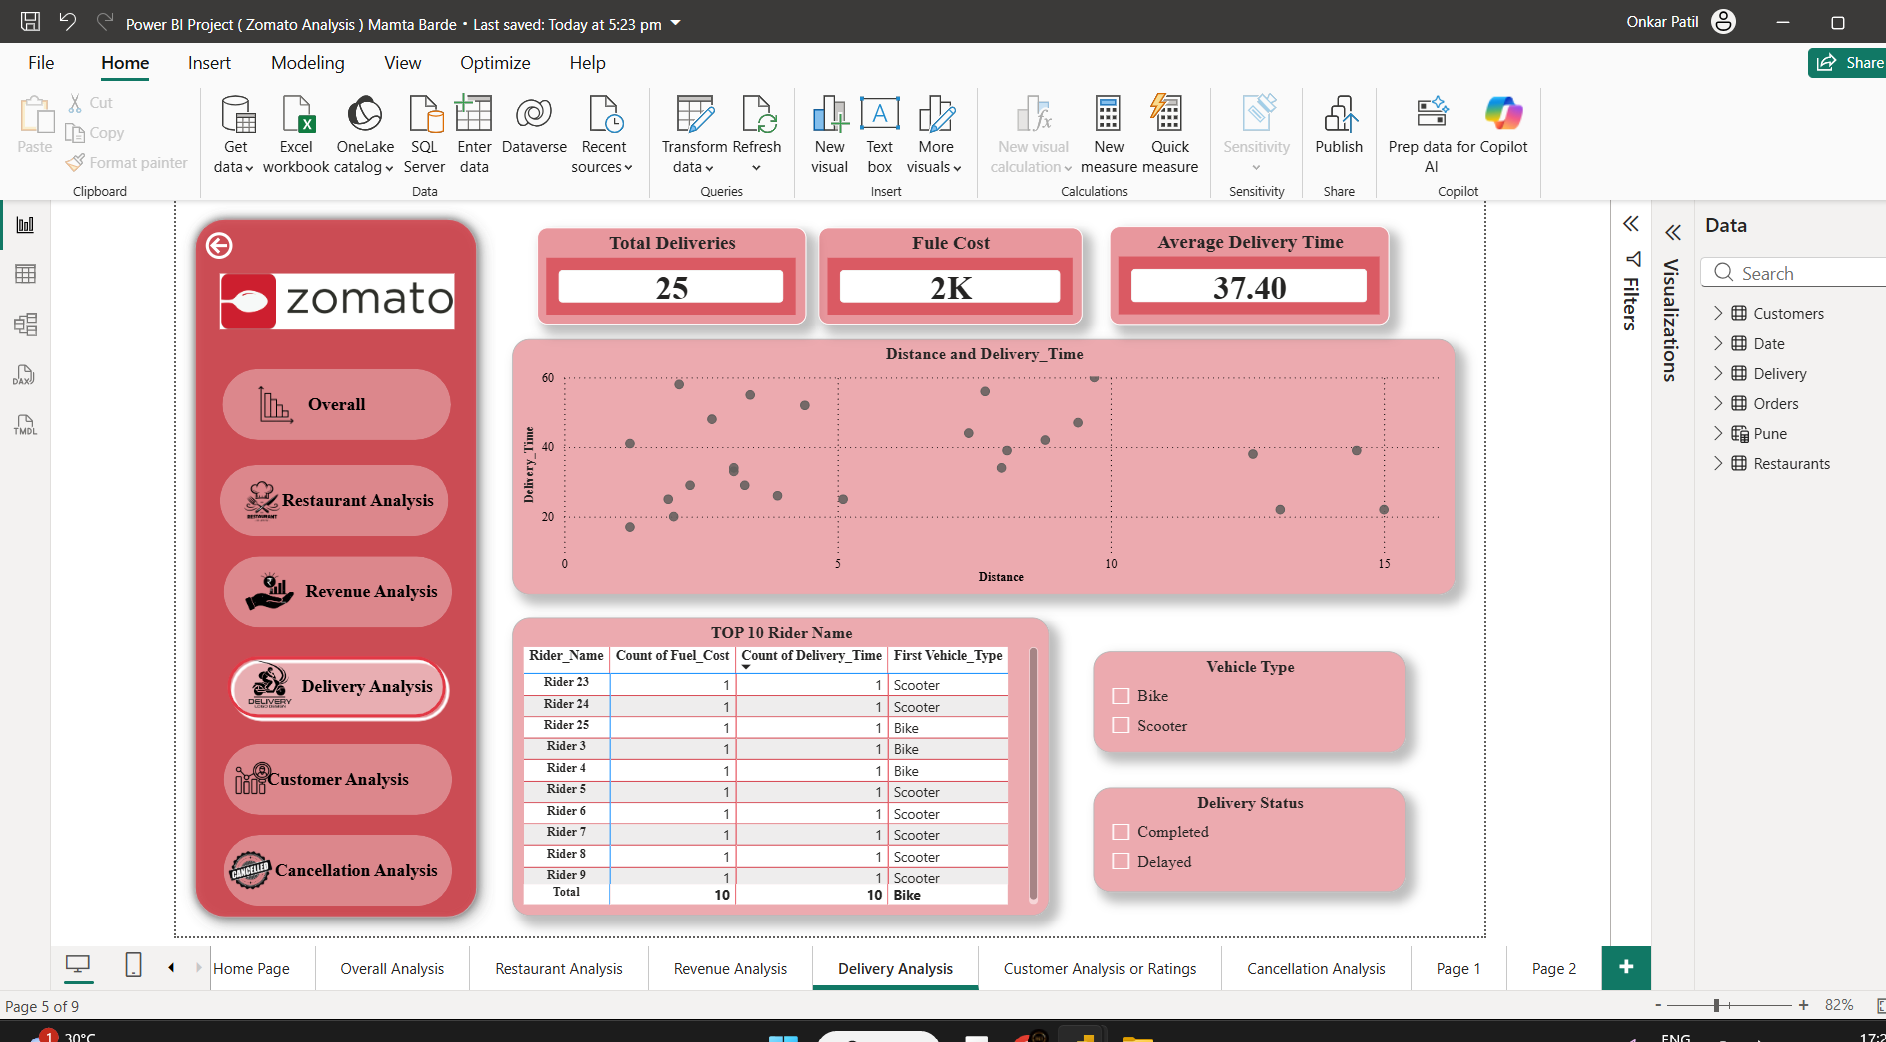

What the dashboard file says about the page in this screenshot:
{"tool":"powerbi","page":{"name":"Delivery Analysis","canvas":[1280,720],"ordinal":4},"visuals":[{"type":"shape","box":[0,0,312.9,720.4],"z":0},{"type":"image","box":[42.8,62.4,229.9,73.4],"z":1000},{"type":"actionButton","box":[45.2,165.1,223.8,69.7],"z":2000},{"type":"image","box":[56.3,173.6,83.2,53.8],"z":3000},{"type":"actionButton","box":[42.8,259.2,223.8,69.7],"z":4000},{"type":"image","box":[56.3,275.1,56.3,39.1],"z":5000},{"type":"actionButton","box":[46.5,348.5,223.8,69.7],"z":6000},{"type":"image","box":[59.9,359.5,63.6,48.9],"z":7000},{"type":"actionButton","box":[45.2,441.4,223.8,69.7],"z":8000},{"type":"image","box":[40.4,441.4,103.9,64.8],"z":9000},{"type":"actionButton","box":[46.5,531.9,223.8,69.7],"z":10000},{"type":"image","box":[53.8,545.4,44,40.4],"z":11000},{"type":"actionButton","box":[46.5,621.2,223.8,69.7],"z":12000},{"type":"image","box":[45.2,637.1,55,40.4],"z":13000},{"type":"actionButton","box":[24.5,26.9,62.4,35.5],"z":14000},{"type":"scatterChart","fields":{"X":["Delivery.Distance"],"Y":["Delivery.Delivery_Time"]},"box":[328.9,135.7,923.2,250.7],"z":15000},{"type":"pivotTable","title":"TOP  10 Rider Name ","fields":{"Rows":["Delivery.Rider_Name"],"Values":["CountNonNull(Delivery.Fuel_Cost)","CountNonNull(Delivery.Delivery_Time)","Min(Delivery.Vehicle_Type)"]},"box":[328.9,408.4,525.8,292.3],"z":16000},{"type":"slicer","title":"Vehicle Type ","fields":{"Values":["Delivery.Vehicle_Type"]},"box":[897.6,441.4,305.7,99],"z":17000},{"type":"slicer","title":"Delivery Status","fields":{"Values":["Delivery.Delivery_Status"]},"box":[897.6,574.7,305.7,102.7],"z":18000},{"type":"cardVisual","title":"Total Deliveries ","fields":{"Data":["Delivery.Total Deliveries"]},"box":[353.4,26.9,262.9,95.4],"z":19000},{"type":"cardVisual","title":"Fule Cost","fields":{"Data":["Delivery.Fuel Cost"]},"box":[628.5,26.9,258,95.4],"z":20000},{"type":"cardVisual","title":"Average Delivery Time","fields":{"Data":["Delivery.Average Delivery Time 1"]},"box":[913.5,25.7,273.9,96.6],"z":21000}]}

Visuals, with their boxes on the page's 1280x720 design canvas (x1, y1, x2, y2). These are canvas units, not pixel positions in the 1886x1042 screenshot, which may show the page scaled, cropped or inside an application window:
shape: l=0, t=0, r=313, b=720
image: l=43, t=62, r=273, b=136
actionButton: l=45, t=165, r=269, b=235
image: l=56, t=174, r=140, b=227
actionButton: l=43, t=259, r=267, b=329
image: l=56, t=275, r=113, b=314
actionButton: l=46, t=348, r=270, b=418
image: l=60, t=360, r=124, b=408
actionButton: l=45, t=441, r=269, b=511
image: l=40, t=441, r=144, b=506
actionButton: l=46, t=532, r=270, b=602
image: l=54, t=545, r=98, b=586
actionButton: l=46, t=621, r=270, b=691
image: l=45, t=637, r=100, b=678
actionButton: l=24, t=27, r=87, b=62
scatterChart - Delivery.Distance x Delivery.Delivery_Time: l=329, t=136, r=1252, b=386
"TOP  10 Rider Name " pivotTable: l=329, t=408, r=855, b=701
"Vehicle Type " slicer: l=898, t=441, r=1203, b=540
"Delivery Status" slicer: l=898, t=575, r=1203, b=677
"Total Deliveries " cardVisual: l=353, t=27, r=616, b=122
"Fule Cost" cardVisual: l=628, t=27, r=886, b=122
"Average Delivery Time" cardVisual: l=914, t=26, r=1187, b=122
